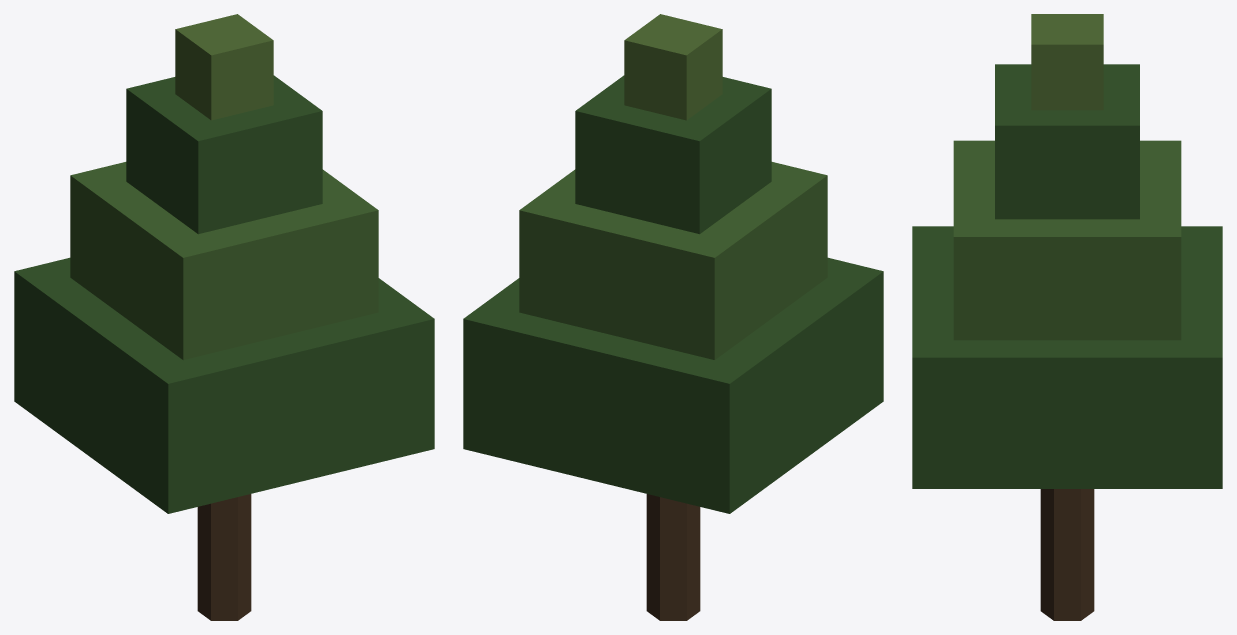
File: tree_pine_a.glb
3 renders of one model, left to right at view 1: azimuth 30°, elevation 25°; view 2: azimuth 150°, elevation 25°; view 3: azimuth 270°, elevation 25°, orthographic.
Parts seen in each view (by area): view 1: Cube, Cube.001, Cube.002, Cube.003, Cylinder; view 2: Cube, Cube.001, Cube.002, Cube.003, Cylinder; view 3: Cube, Cube.001, Cube.002, Cylinder, Cube.003.
Part boxes in pixels (x1,y1,x2,y2): Cube: (14,257,434,513); Cube.001: (70,162,378,359); Cube.002: (126,75,322,234); Cube.003: (175,14,273,120); Cylinder: (197,494,251,620); Cube: (463,257,883,513); Cube.001: (519,162,827,359); Cube.002: (575,75,771,234); Cube.003: (624,14,722,120); Cylinder: (646,494,700,620); Cube: (912,226,1222,488); Cube.001: (953,140,1181,340); Cube.002: (995,64,1139,219); Cylinder: (1040,489,1094,620); Cube.003: (1031,14,1103,110).
Bounding box in the file's own units: 30 × 62 × 30.
